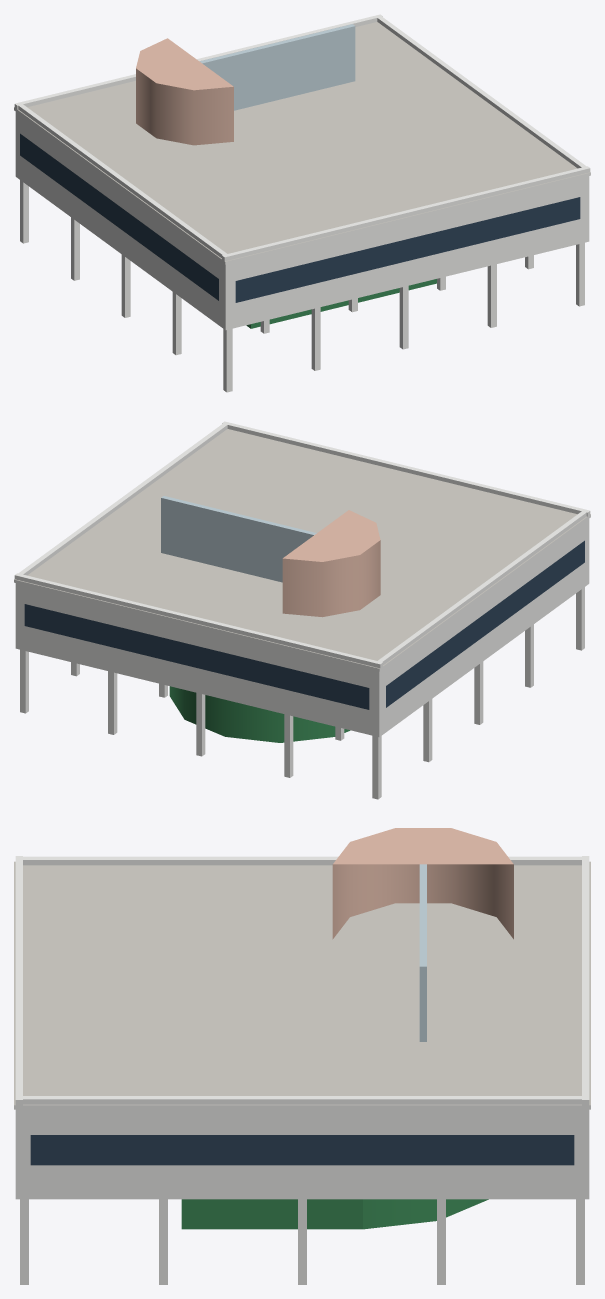
The model's file is villa_moderniste.glb.
3 renders of one model, top to bottom at view 1: azimuth 30°, elevation 25°; view 2: azimuth 150°, elevation 25°; view 3: azimuth 270°, elevation 25°, orthographic. The views are drawn at different scales.
Parts seen in each view (by area): view 1: villa_moderniste; view 2: villa_moderniste; view 3: villa_moderniste.
Part boxes in pixels (left/top/right/bottom): villa_moderniste: left=14, top=14, right=590, bottom=392; villa_moderniste: left=14, top=421, right=590, bottom=799; villa_moderniste: left=14, top=828, right=590, bottom=1284.
Bounding box in the file's own units: 19.1 × 9.6 × 19.1.
1 material, 1 textured.
